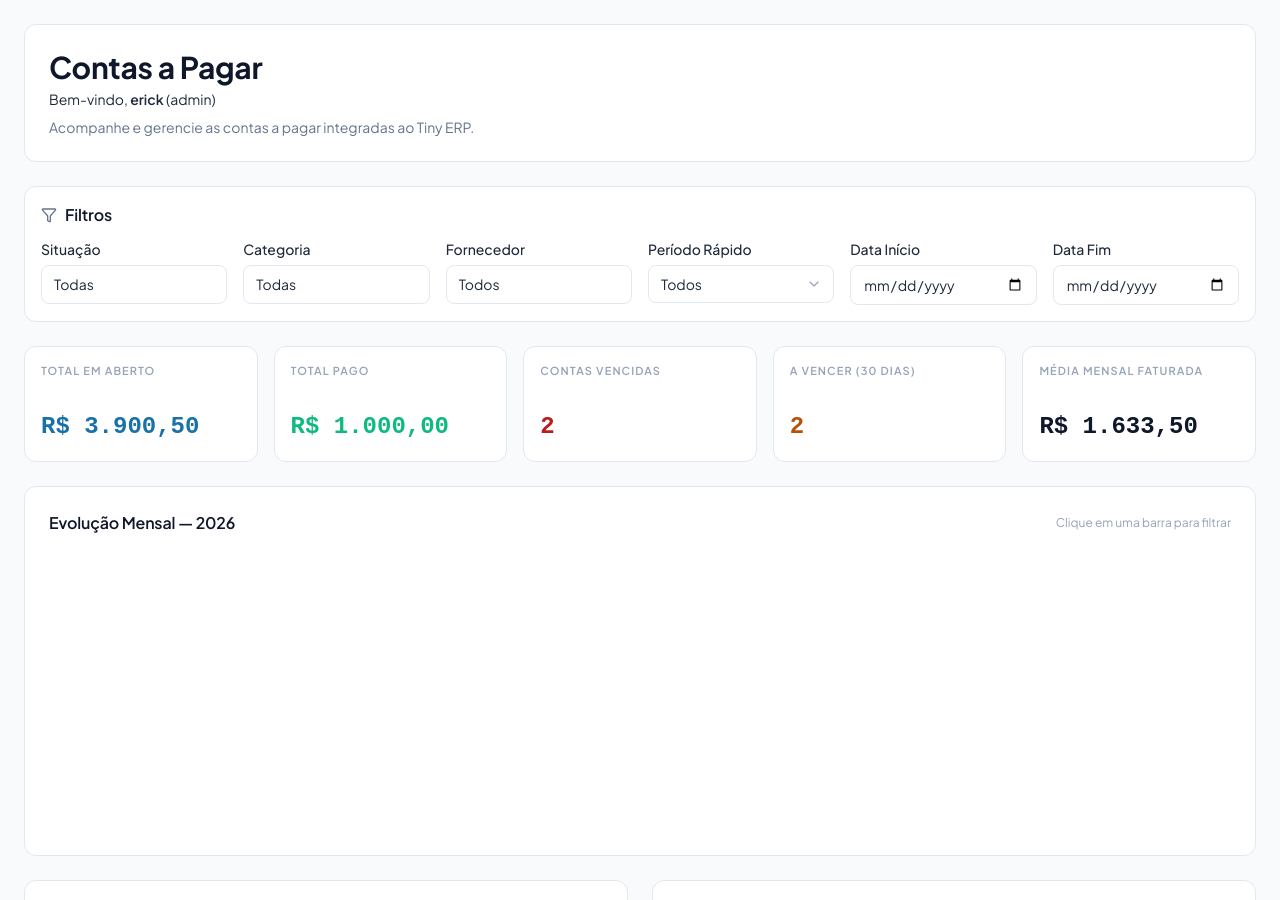
Test: Contas a Pagar — presets de período › 'Últimos 7 dias' vai de 08/03 a 15/03 com o relógio em 15/03/2026
Select "Últimos 7 dias" in the dropdown at (741, 284), box [648,265,834,303]
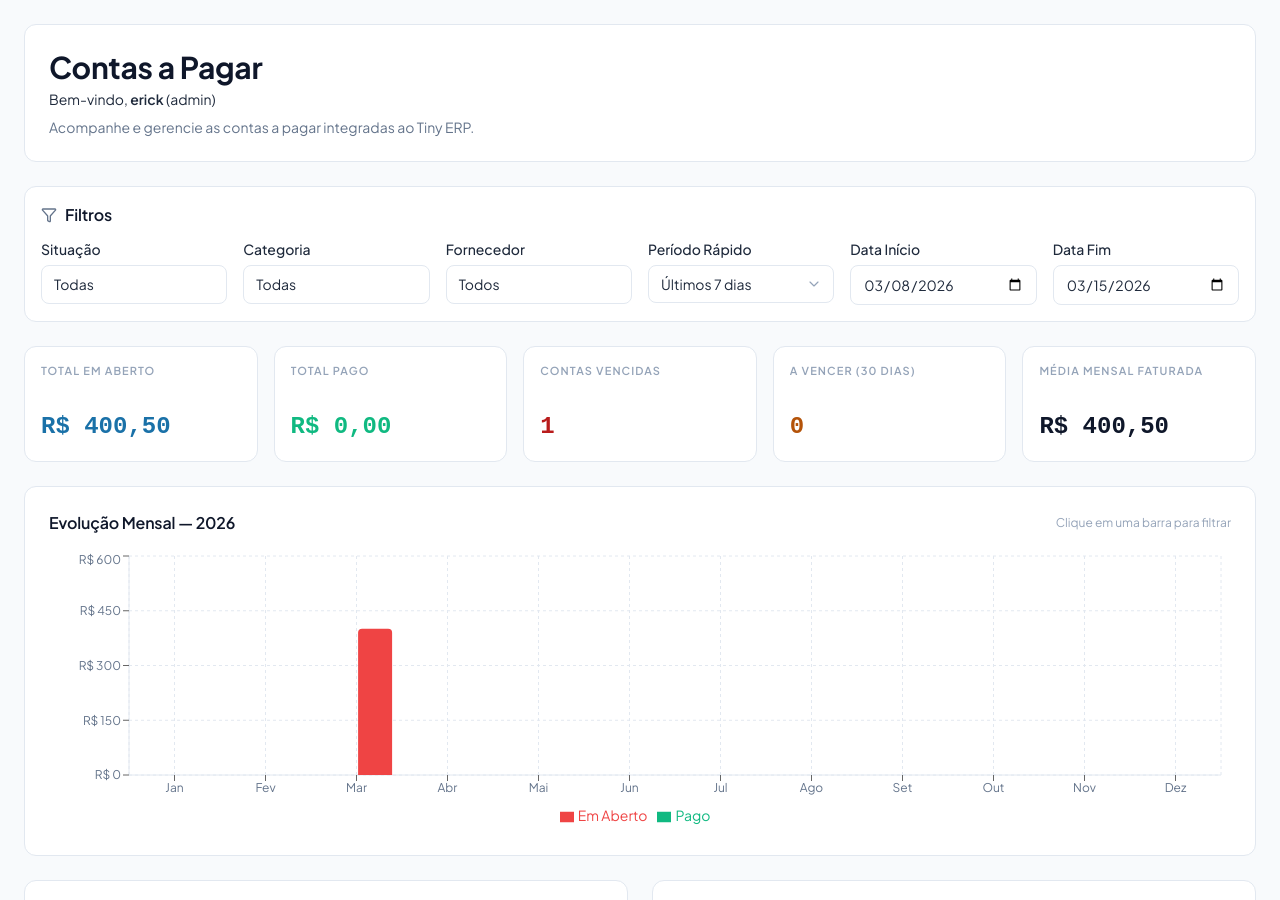
Result: the date field labelled "Data Início" holds "2026-03-08" at [850,265,1037,305]
Result: the date field labelled "Data Fim" holds "2026-03-15" at [1053,265,1239,305]
